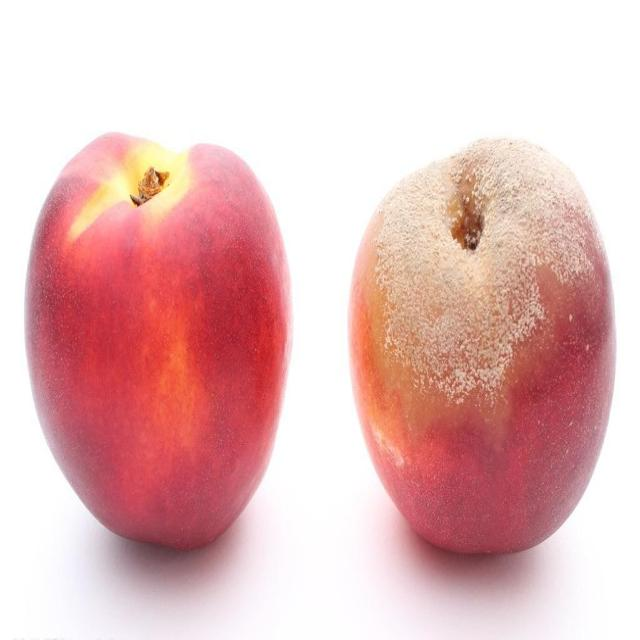Wet Waste: (348, 136, 618, 556), (25, 132, 294, 553)
